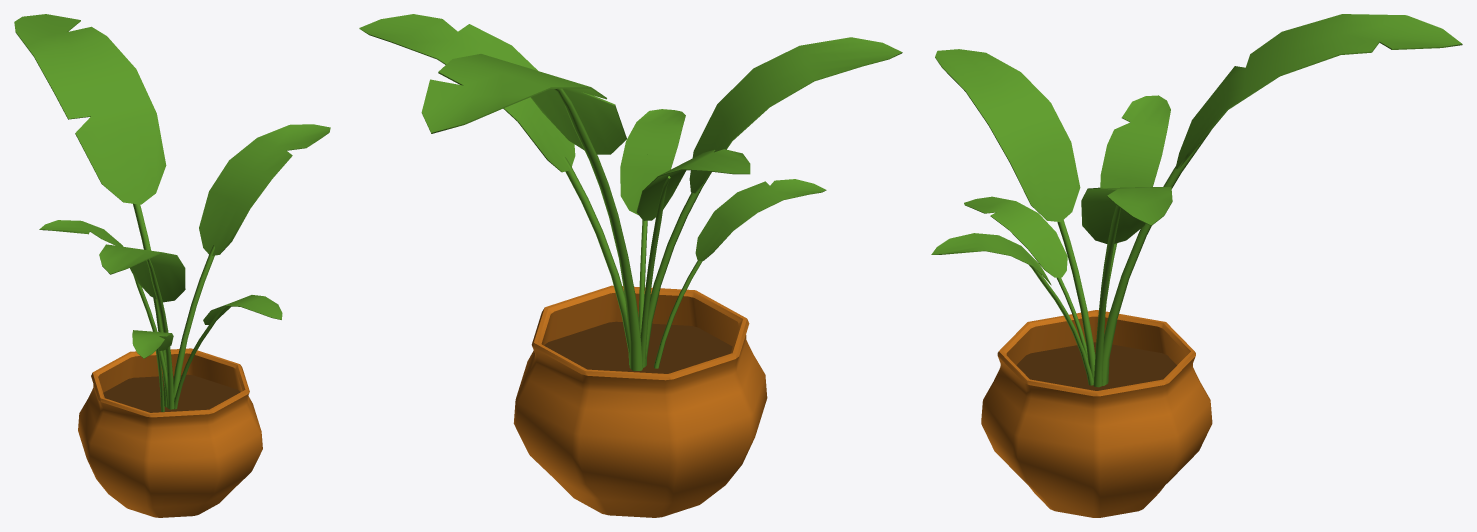
The model's file is PottedPlant1.FBX.
3 views of the same model, side by side, from view 1: azimuth 30°, elevation 25°; view 2: azimuth 150°, elevation 25°; view 3: azimuth 270°, elevation 25° (orthographic). The views are drawn at different scales.
Visible parts, largest first — view 1: PottedPlant1; view 2: PottedPlant1; view 3: PottedPlant1.
Part boxes in pixels (box(x1,y1,x2,y2)): PottedPlant1: box(14, 14, 330, 517); PottedPlant1: box(359, 14, 902, 517); PottedPlant1: box(931, 14, 1462, 517).
Size of the model in its own units: 95.35 by 112 by 117.
